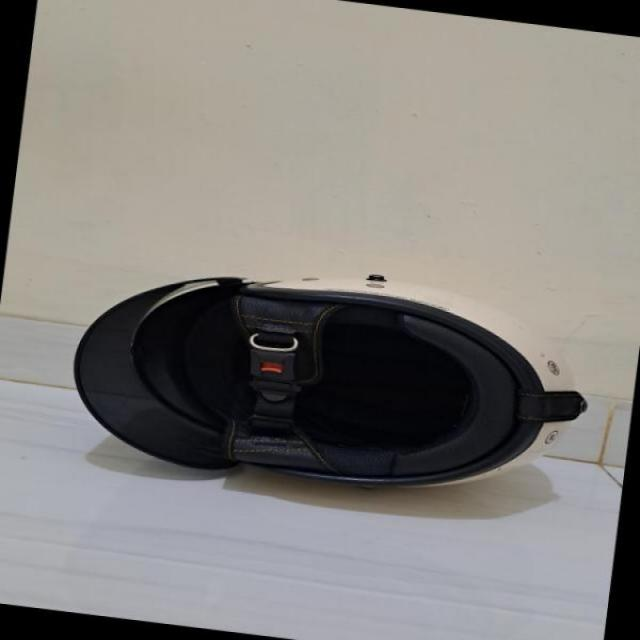Helmet: (65, 250, 588, 534)
